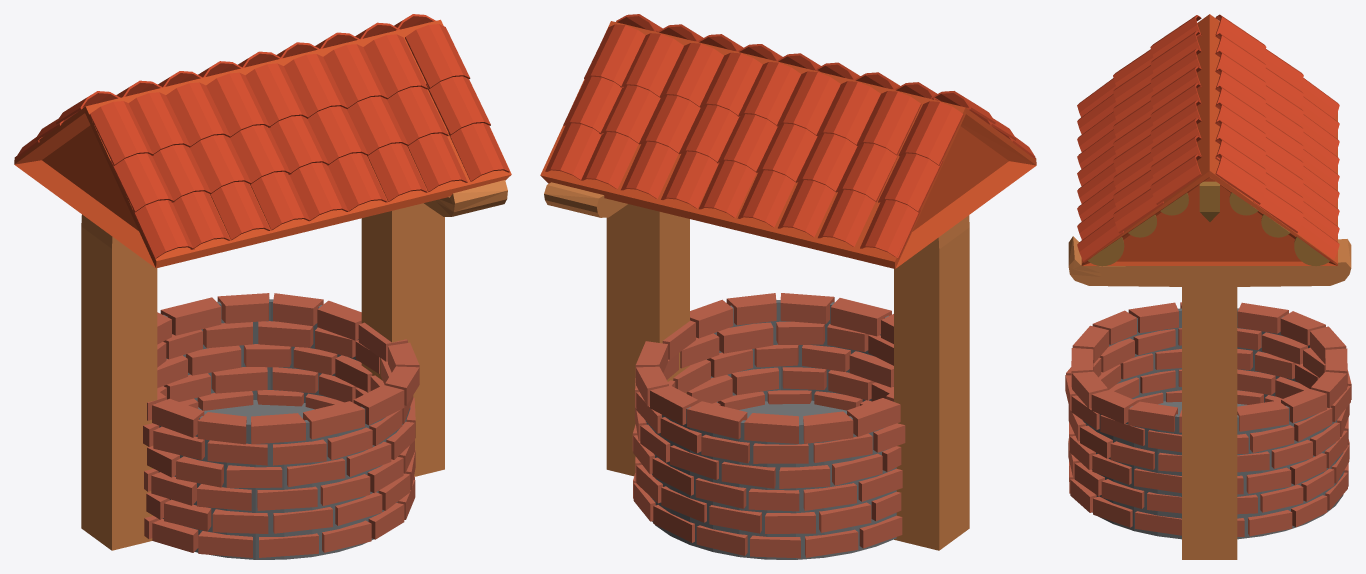
Rendered from pozo_ladrillo.dae.
3 renders of one model, left to right at view 1: azimuth 30°, elevation 25°; view 2: azimuth 150°, elevation 25°; view 3: azimuth 270°, elevation 25°, orthographic. The views are drawn at different scales.
Parts seen in each view (by area): view 1: Columna1, Columna2, Ladrillo2_0_001, Techo, Ladrillo2_0_002, Ladrillo2_0, Ladrillo2_0_003, Ladrillo2_0_004, Pozo_Cemento, Ladrillo2_0_005, Teja_002, Teja_006 (+25 smaller); view 2: Columna1, Columna2, Techo, Ladrillo2_0_001, Ladrillo2_0_002, Ladrillo2_0, Ladrillo2_0_003, Pozo_Cemento, Ladrillo2_0_004, Ladrillo2_0_005, Teja_051, Teja_050 (+26 smaller); view 3: Columna2, Techo, Ladrillo2_0_001, Ladrillo2_0, Ladrillo2_0_002, Ladrillo2_0_003, Pozo_Cemento, Ladrillo2_0_004, Ladrillo2_0_005, Teja_002, Teja_029, Teja_001 (+57 smaller).
Part boxes in pixels (x1=…): Columna1: x1=81, y1=214, x2=157, y2=550; Columna2: x1=361, y1=180, x2=507, y2=476; Ladrillo2_0_001: x1=147, y1=293, x2=419, y2=444; Techo: x1=14, y1=19, x2=511, y2=268; Ladrillo2_0_002: x1=147, y1=344, x2=415, y2=487; Ladrillo2_0: x1=143, y1=321, x2=413, y2=465; Ladrillo2_0_003: x1=144, y1=367, x2=414, y2=510; Ladrillo2_0_004: x1=146, y1=390, x2=415, y2=533; Pozo_Cemento: x1=158, y1=299, x2=410, y2=559; Ladrillo2_0_005: x1=144, y1=476, x2=415, y2=557; Teja_002: x1=405, y1=24, x2=470, y2=88; Teja_006: x1=323, y1=44, x2=387, y2=108; Columna1: x1=894, y1=215, x2=969, y2=550; Columna2: x1=544, y1=182, x2=689, y2=476; Techo: x1=540, y1=21, x2=1036, y2=268; Ladrillo2_0_001: x1=635, y1=293, x2=900, y2=443; Ladrillo2_0_002: x1=635, y1=344, x2=901, y2=488; Ladrillo2_0: x1=635, y1=321, x2=905, y2=463; Ladrillo2_0_003: x1=632, y1=367, x2=902, y2=511; Pozo_Cemento: x1=645, y1=300, x2=896, y2=559; Ladrillo2_0_004: x1=635, y1=390, x2=901, y2=533; Ladrillo2_0_005: x1=633, y1=473, x2=902, y2=558; Teja_051: x1=898, y1=101, x2=963, y2=165; Teja_050: x1=856, y1=91, x2=921, y2=155; Columna2: x1=1068, y1=236, x2=1351, y2=559; Techo: x1=1081, y1=14, x2=1337, y2=265; Ladrillo2_0_001: x1=1071, y1=302, x2=1347, y2=432; Ladrillo2_0: x1=1065, y1=328, x2=1351, y2=453; Ladrillo2_0_002: x1=1068, y1=349, x2=1349, y2=472; Ladrillo2_0_003: x1=1069, y1=369, x2=1348, y2=494; Pozo_Cemento: x1=1082, y1=308, x2=1344, y2=539; Ladrillo2_0_004: x1=1068, y1=390, x2=1349, y2=514; Ladrillo2_0_005: x1=1069, y1=461, x2=1348, y2=536; Teja_002: x1=1150, y1=154, x2=1201, y2=204; Teja_029: x1=1215, y1=154, x2=1266, y2=204; Teja_001: x1=1113, y1=188, x2=1163, y2=233.
Bounding box in the file's own units: 2.55 × 1.96 × 3.01.
